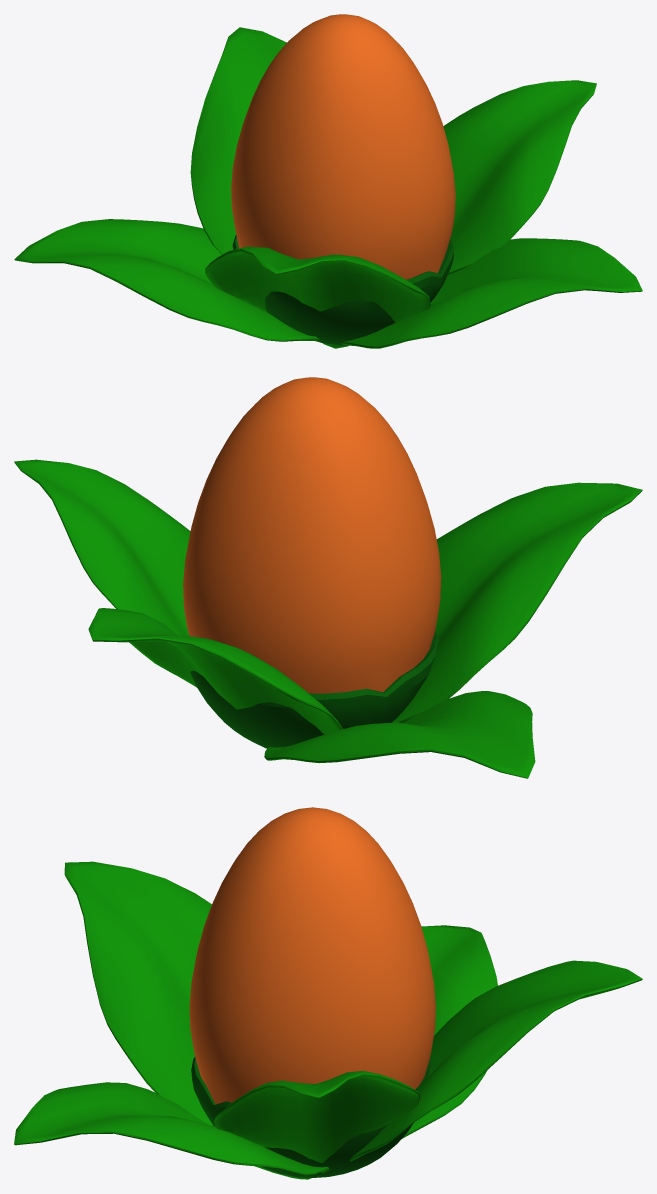
File: Midszoliy.fbx
3 views of the same model, one above another, from view 1: azimuth 30°, elevation 25°; view 2: azimuth 150°, elevation 25°; view 3: azimuth 270°, elevation 25° (orthographic). The views are drawn at different scales.
Visible parts, largest first — view 1: Midszoliy; view 2: Midszoliy; view 3: Midszoliy.
Boxes of the visible parts, box(x1,y1,x2,y2) form: Midszoliy: box(14, 14, 642, 348); Midszoliy: box(14, 377, 642, 778); Midszoliy: box(14, 807, 642, 1179).
Size of the model in its own units: 558 by 334 by 526.
